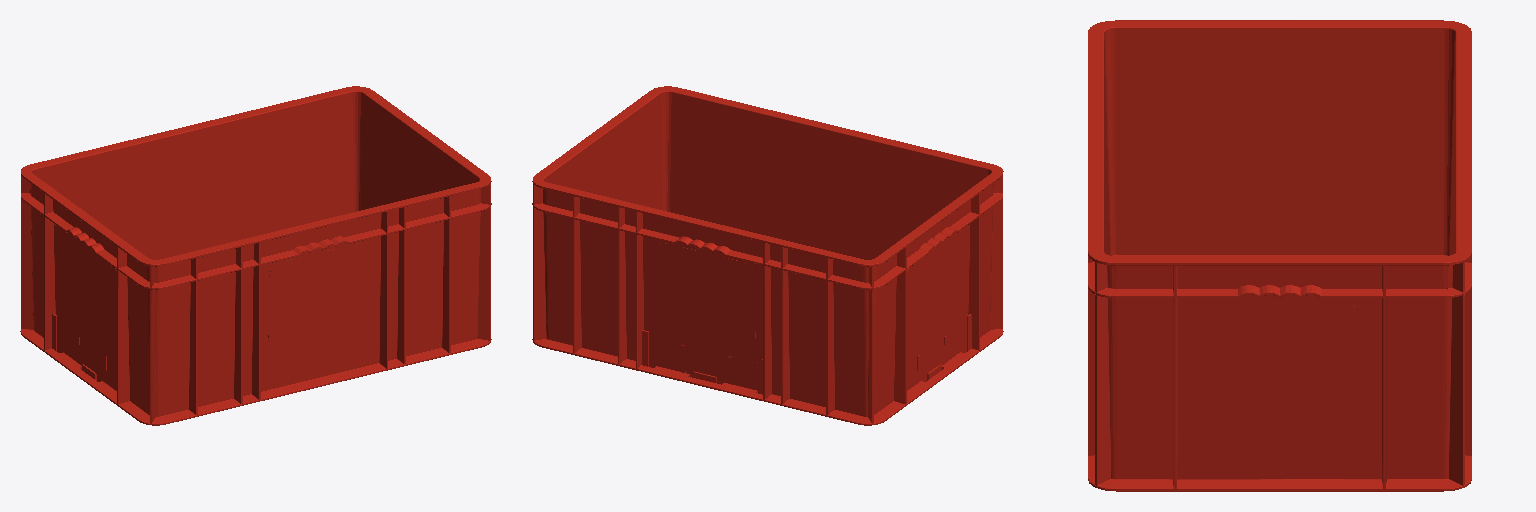
robot.urdf — box:
<?xml version="1.0" encoding="utf-8"?>
<!-- This URDF was automatically created by SolidWorks to URDF Exporter! Originally created by [author] ([email redacted]) 
     Commit Version: 1.6.0-4-g7f85cfe  Build Version: 1.6.7995.38578
     For more information, please see http://wiki.ros.org/sw_urdf_exporter -->
<robot
  name="box">
  <link
    name="base_link">
    <inertial>
      <origin
        xyz="-0.0188404126504002 -0.0494843642455737 0.00187321797177616"
        rpy="0 0 0" />
      <mass
        value="2.91589524789427" />
      <inertia
        ixx="0.0871604082393697"
        ixy="-2.92190142137842E-05"
        ixz="-2.93688117187991E-06"
        iyy="0.178965654397778"
        iyz="-1.91237365268621E-05"
        izz="0.140312137619787" />
    </inertial>
    <visual>
      <origin
        xyz="0 0 0"
        rpy="0 0 0" />
      <geometry>
        <mesh
          filename="package://box/meshes/base_link.STL" />
      </geometry>
      <material
        name="">
        <color
          rgba="0.768627450980392 0.207843137254902 0.152941176470588 1" />
      </material>
    </visual>
    <collision>
      <origin
        xyz="0 0 0"
        rpy="0 0 0" />
      <geometry>
        <mesh
          filename="package://box/meshes/base_link.STL" />
      </geometry>
    </collision>
  </link>
</robot>

--- Facts derived from the render (not from the file) ---
The picture shows the robot from 3 angles, left to right: view 1: azimuth 30°, elevation 25°; view 2: azimuth 150°, elevation 25°; view 3: azimuth 270°, elevation 25°; orthographic projection.
Model box with 1 links and 0 joints (none), rooted at base_link, posed every joint at zero.
Visible links, largest first — view 1: base_link; view 2: base_link; view 3: base_link.
Link boxes in pixels (x1,y1,x2,y2): base_link: (20, 86, 491, 425); base_link: (532, 86, 1003, 425); base_link: (1088, 20, 1471, 491).
Size in the robot's own frame: 0.591 by 0.396 by 0.2668 metres.
Meshes: 1 distinct files referenced, 1 mesh visuals loaded (1 binary STL).